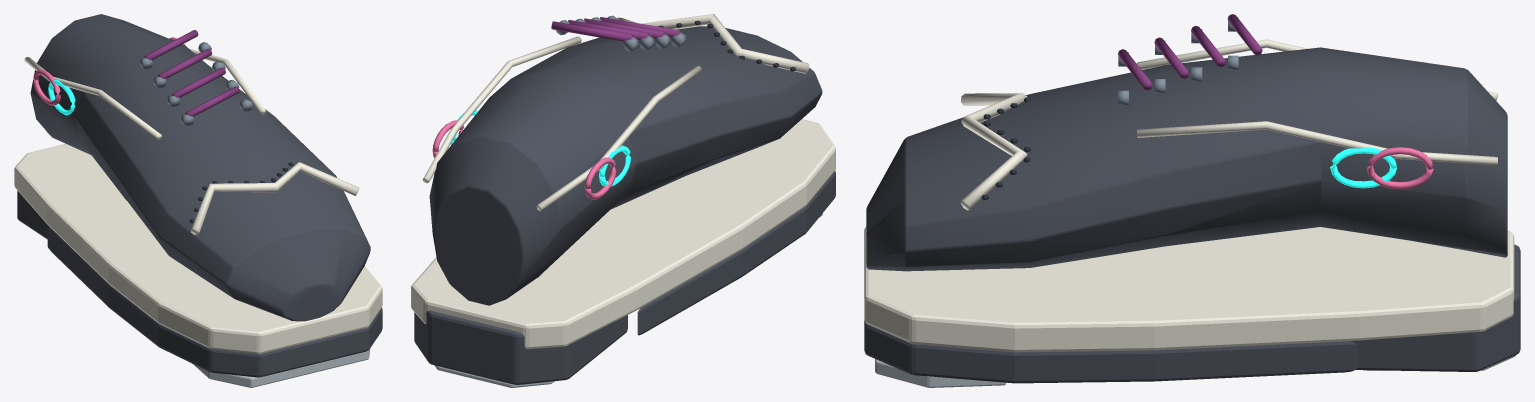
Rendered from BeatLinkTapstepOxfords.glb.
The picture shows the model from 3 angles, left to right: view 1: azimuth 30°, elevation 25°; view 2: azimuth 150°, elevation 25°; view 3: azimuth 270°, elevation 25°; orthographic projection. The views are drawn at different scales.
Parts seen in each view (by area): view 1: BeatLinkTapstepOxfords_StaticSurfaces; view 2: BeatLinkTapstepOxfords_StaticSurfaces; view 3: BeatLinkTapstepOxfords_StaticSurfaces.
Boxes of the visible parts, bbox=[...] form: BeatLinkTapstepOxfords_StaticSurfaces: bbox=[14, 14, 382, 387]; BeatLinkTapstepOxfords_StaticSurfaces: bbox=[411, 14, 835, 387]; BeatLinkTapstepOxfords_StaticSurfaces: bbox=[864, 14, 1520, 387].
Size of the model in its own units: 0.142 by 0.1583 by 0.305.
